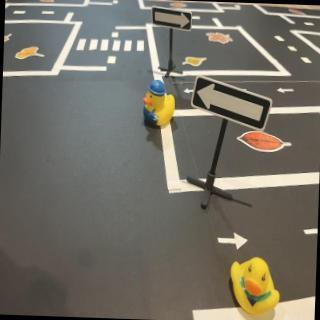duck_regular: (229, 258, 282, 319)
duck_specialty: (142, 80, 178, 131)
road_crosswalk: (75, 37, 152, 57)
road_oneway: (217, 233, 249, 252), (278, 86, 299, 96), (184, 86, 197, 97)
sign_oneway_left: (193, 78, 275, 131)
sign_oneway_right: (152, 5, 195, 32)
